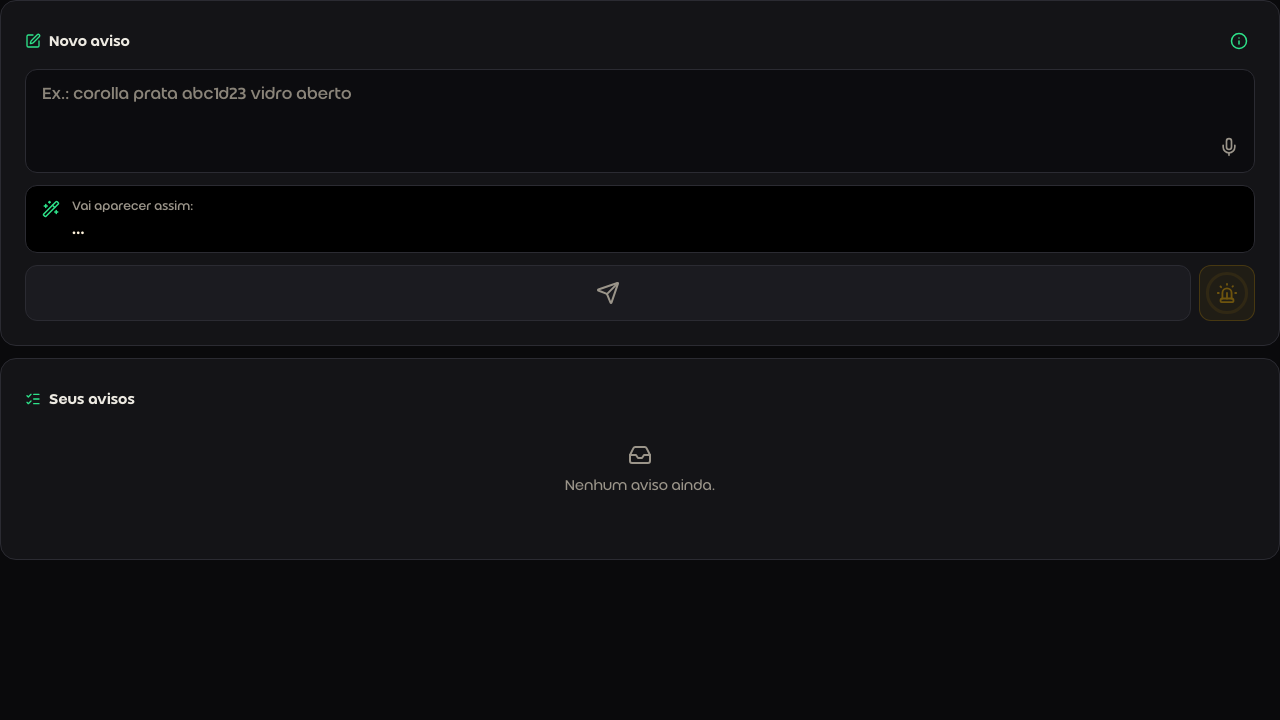
Test case: SendTab: campo e prévia › membro sem placa: não vai para o telão e diz o que falta
Click the text box labelled "Novo aviso" at (640, 121), box [25, 69, 1255, 173]
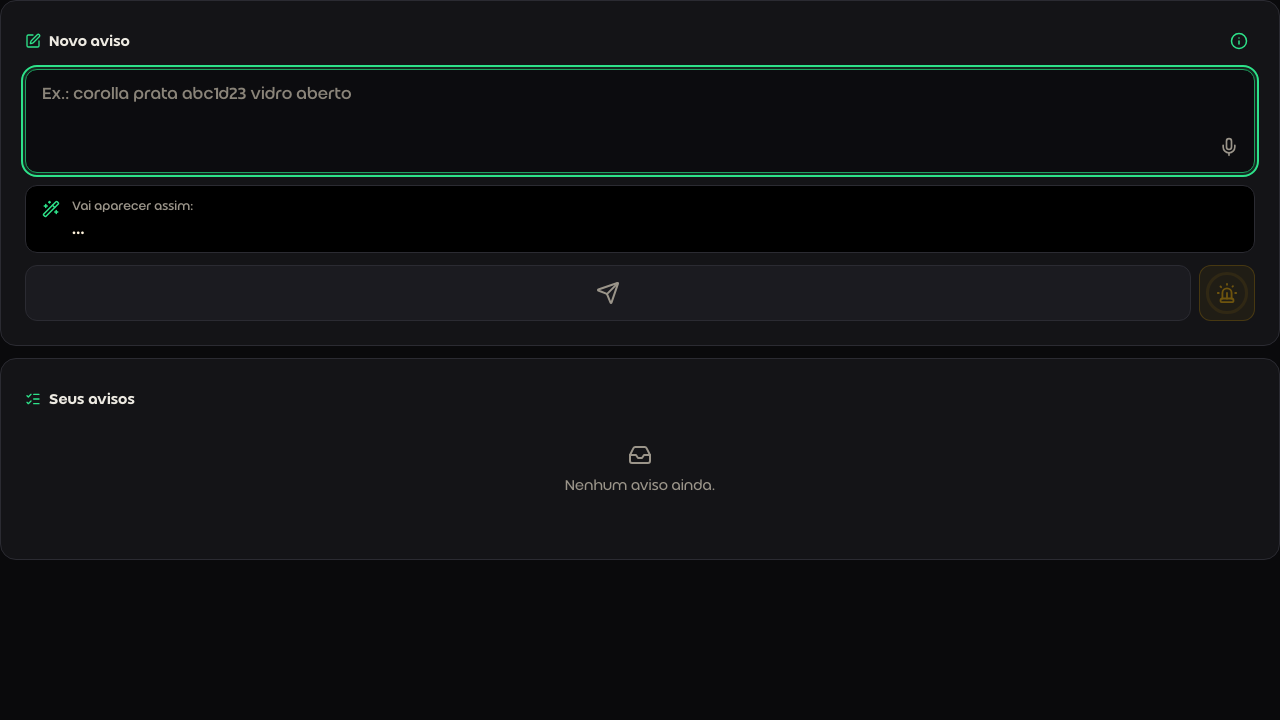
Type keys "gol branco farol aceso"
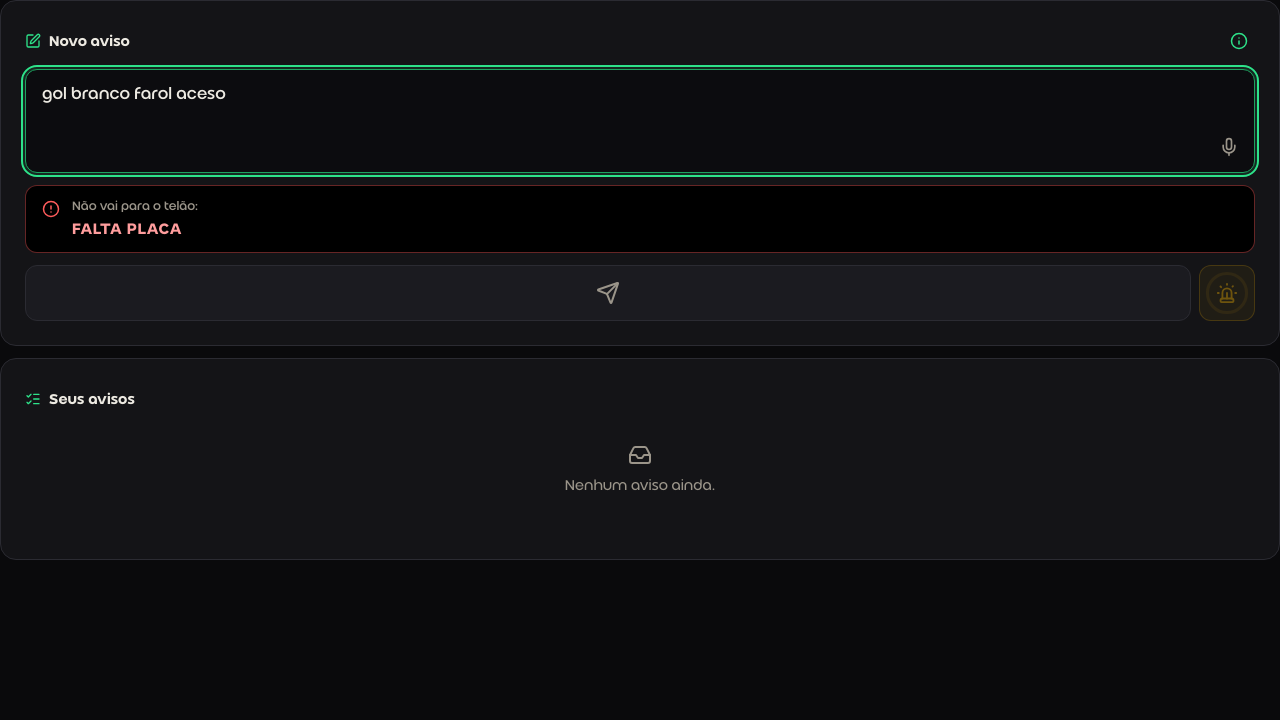
Check: the text "Não vai para o telão:" is shown, box [72, 198, 198, 215]
Check: the text "FALTA PLACA" is shown, box [72, 220, 182, 238]
